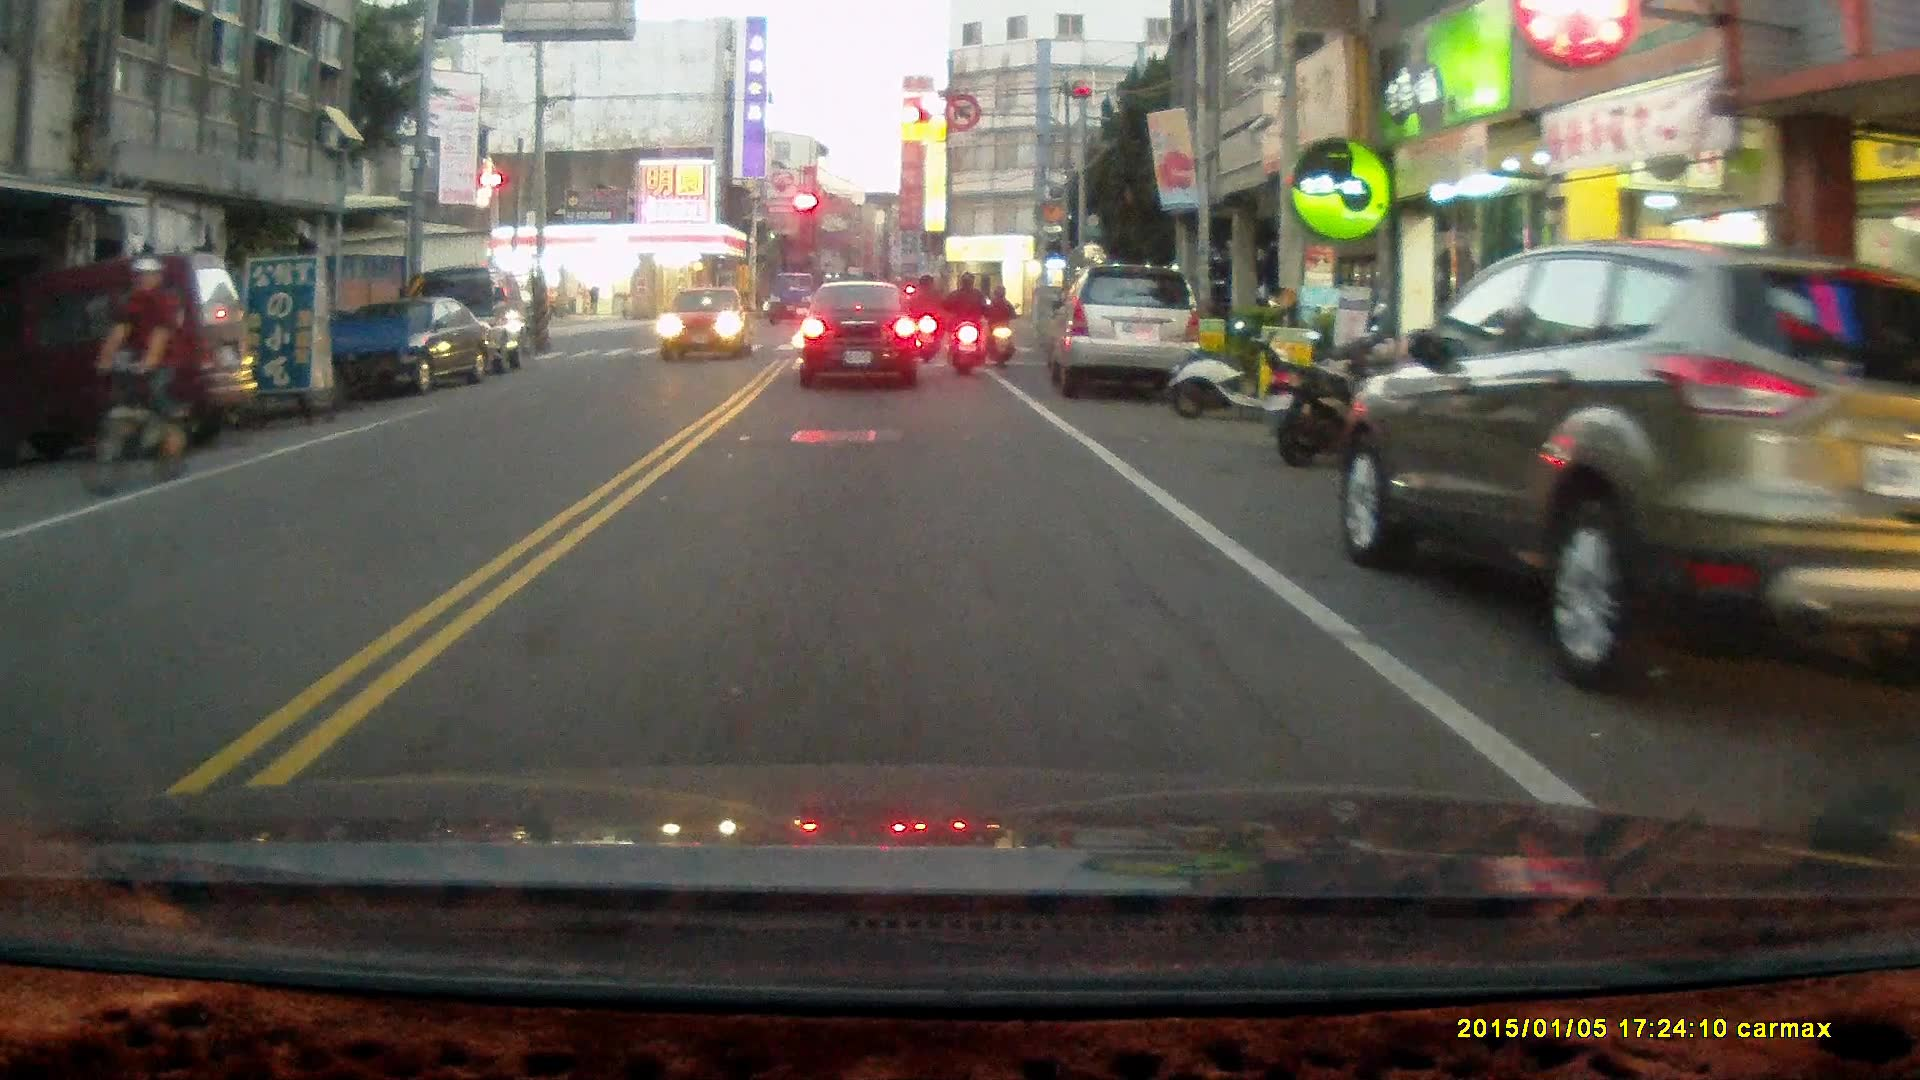rider: (80, 255, 192, 501), (943, 271, 991, 377), (907, 272, 942, 365), (984, 282, 1015, 368)
vehicle: (1347, 235, 1920, 698), (1, 256, 269, 462), (1046, 262, 1207, 405), (318, 294, 502, 398), (805, 280, 931, 390), (412, 262, 528, 377), (661, 284, 753, 360)
